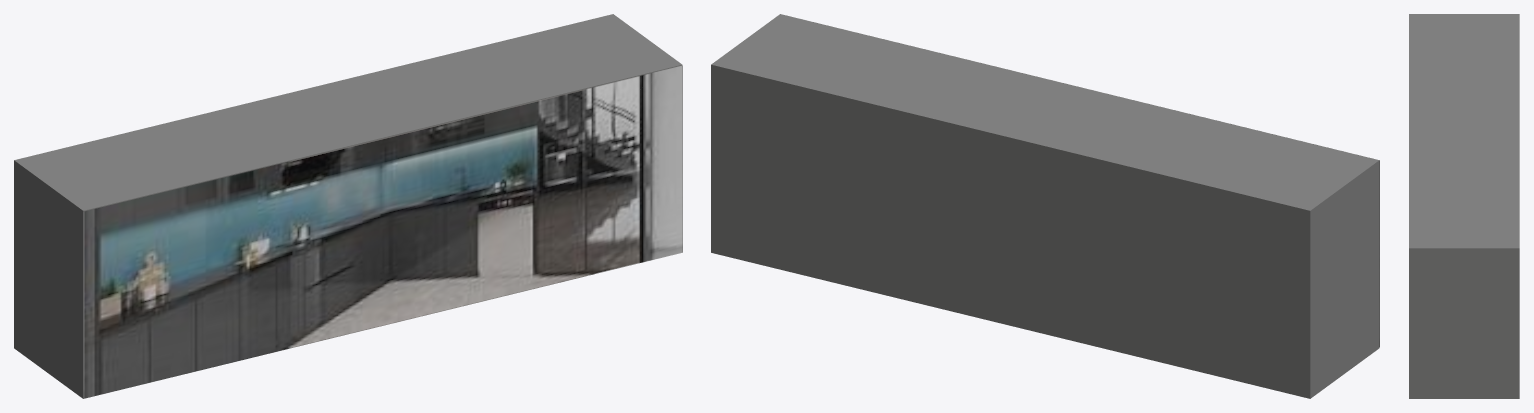
Rendered from mocan-67.glb.
The picture shows the model from 3 angles, left to right: view 1: azimuth 30°, elevation 25°; view 2: azimuth 150°, elevation 25°; view 3: azimuth 270°, elevation 25°; orthographic projection. The views are drawn at different scales.
Visible parts, largest first — view 1: furniture; view 2: furniture; view 3: furniture.
Part boxes in pixels (<box>): furniture: <box>14,14,682,398</box>; furniture: <box>711,14,1379,398</box>; furniture: <box>1409,14,1519,398</box>.
Size of the model in its own units: 3 by 0.9 by 0.604.
Materials: 2 (1 with a texture image).
